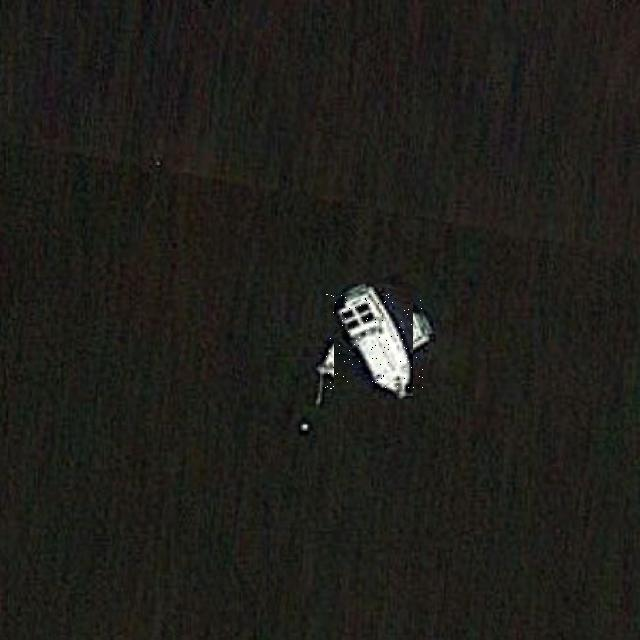boat: (325, 293, 423, 390)
